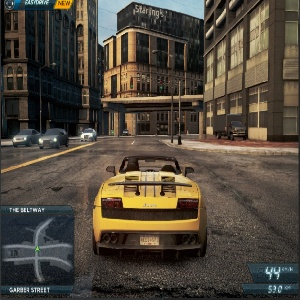building: (99, 3, 200, 134), (205, 1, 300, 137), (1, 8, 100, 135)
lamp post: (152, 49, 188, 145)
vehicle: (212, 114, 246, 140), (39, 127, 69, 149), (12, 128, 42, 148), (80, 127, 97, 141)
